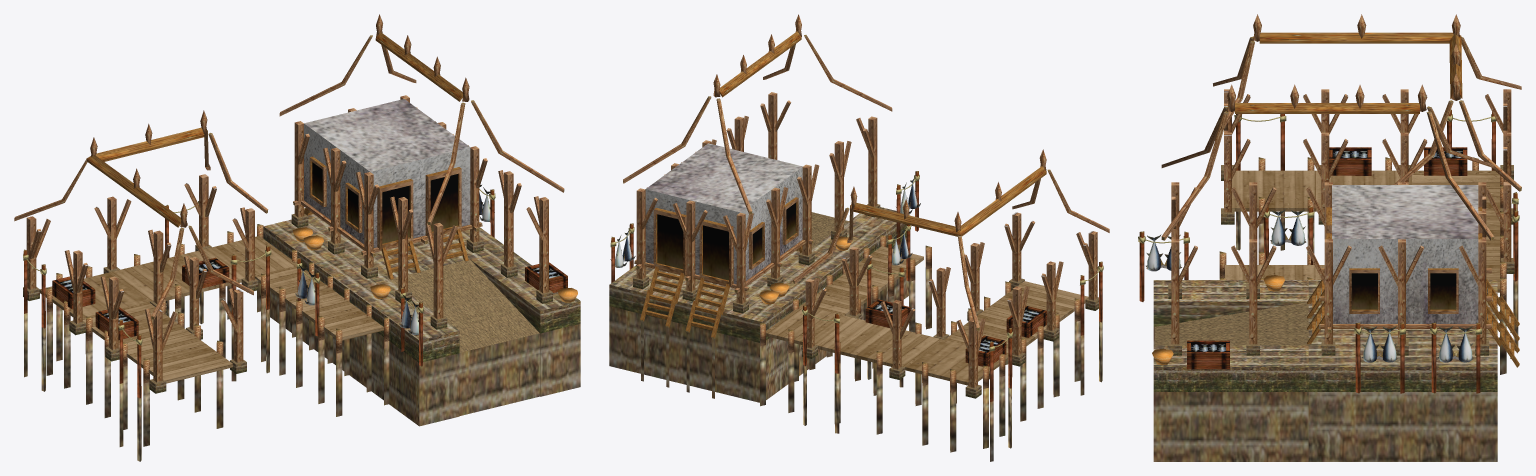
The model's file is dock.dae.
The picture shows the model from 3 angles, left to right: view 1: azimuth 30°, elevation 25°; view 2: azimuth 150°, elevation 25°; view 3: azimuth 270°, elevation 25°; orthographic projection. The views are drawn at different scales.
Parts seen in each view (by area): view 1: dock; view 2: dock; view 3: dock.
Part boxes in pixels (bbox=[...]): dock: bbox=[14, 14, 580, 461]; dock: bbox=[609, 14, 1109, 461]; dock: bbox=[1138, 14, 1521, 461].
Size of the model in its own units: 30.05 by 21.66 by 21.13.
